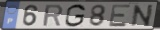6: (22, 4, 39, 27)
8: (88, 4, 107, 28)
E: (108, 4, 132, 28)
G: (64, 3, 87, 28)
N: (130, 4, 155, 27)
R: (42, 4, 64, 28)
